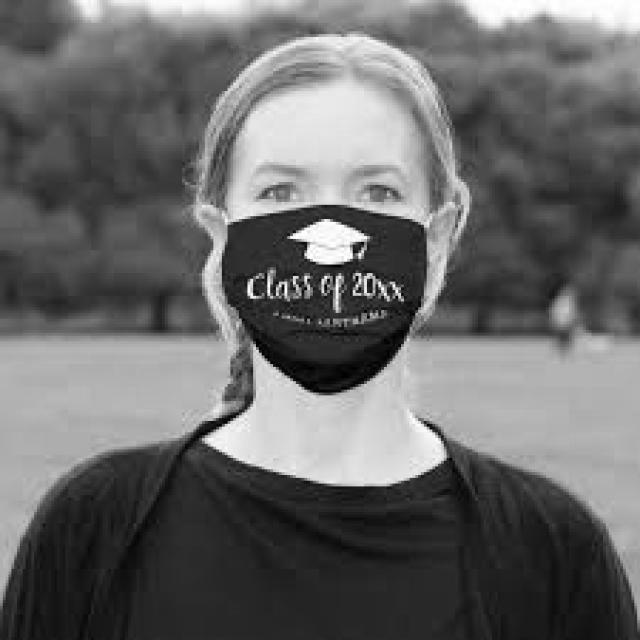fake: (208, 205, 450, 394)
real: (225, 85, 435, 406)
